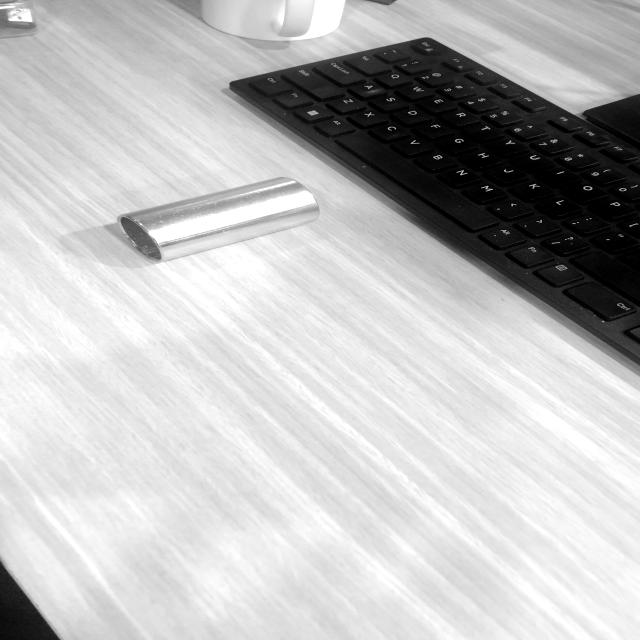Co_Lon: (116, 168, 322, 270)
